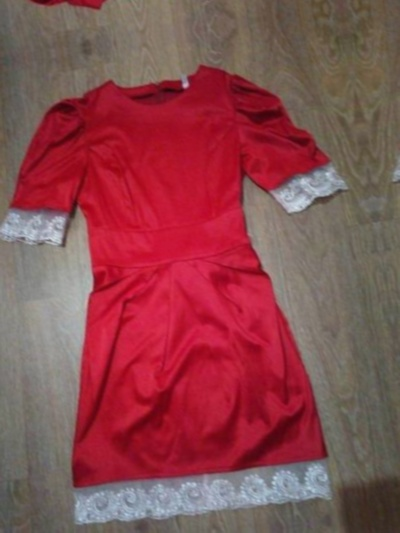Dress: (0, 26, 400, 533), (363, 0, 400, 493), (0, 0, 319, 52), (41, 519, 400, 533)
